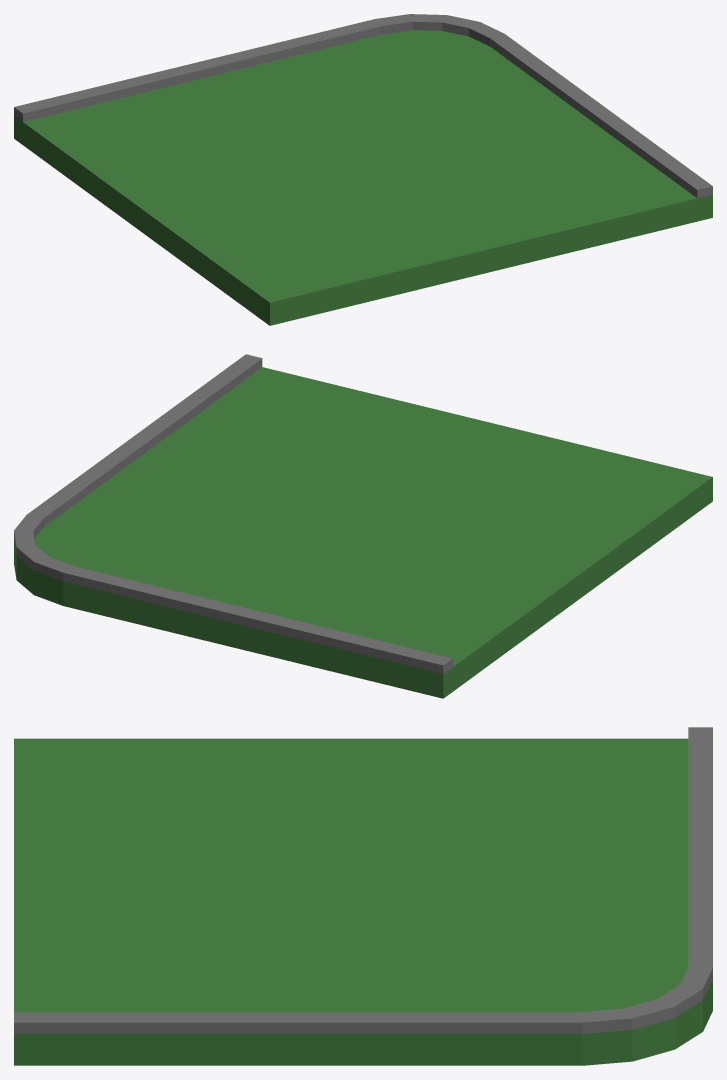
File: SM_Factory_Grass_01.glb
3 views of the same model, one above another, from view 1: azimuth 30°, elevation 25°; view 2: azimuth 150°, elevation 25°; view 3: azimuth 270°, elevation 25° (orthographic). The views are drawn at different scales.
Visible parts, largest first — view 1: SM_Factory_Grass_01; view 2: SM_Factory_Grass_01; view 3: SM_Factory_Grass_01.
Part boxes in pixels (x1=…): SM_Factory_Grass_01: x1=14, y1=14, x2=712, y2=325; SM_Factory_Grass_01: x1=14, y1=354, x2=712, y2=698; SM_Factory_Grass_01: x1=14, y1=727, x2=712, y2=1065.
Size of the model in its own units: 5 by 0.3407 by 5.
Materials: 1 (1 with a texture image).
